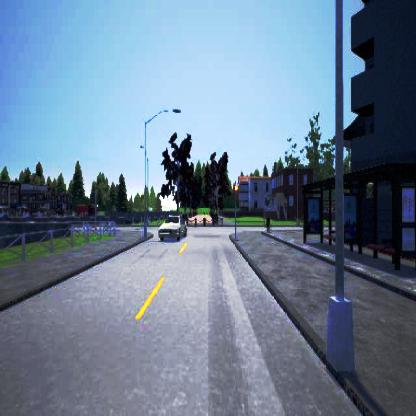vehicle: (158, 214, 186, 239)
